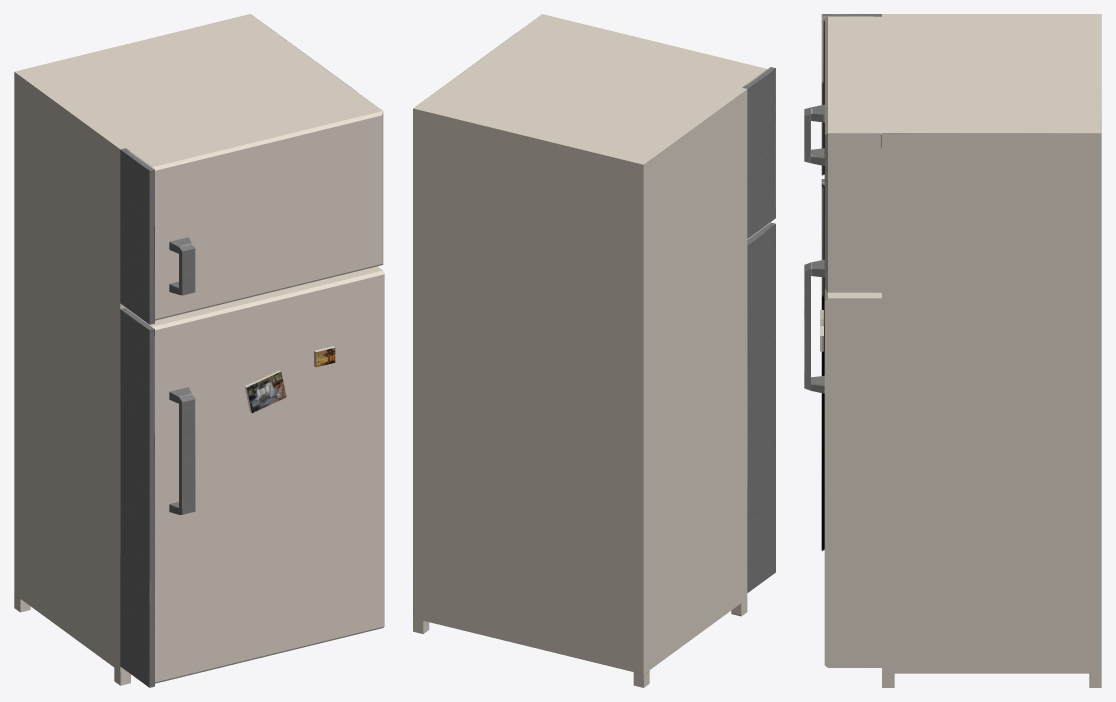
Rendered from fridge.obj.
The picture shows the model from 3 angles, left to right: view 1: azimuth 30°, elevation 25°; view 2: azimuth 150°, elevation 25°; view 3: azimuth 270°, elevation 25°; orthographic projection. The views are drawn at different scales.
Visible parts, largest first — view 1: Fridge_Cube; view 2: Fridge_Cube; view 3: Fridge_Cube.
Boxes of the visible parts, x1,y1,x2,y2 form: Fridge_Cube: (14, 14, 384, 687); Fridge_Cube: (413, 14, 775, 687); Fridge_Cube: (804, 14, 1101, 687).
Bounding box in the file's own units: 9 × 19.5 × 9.48.
